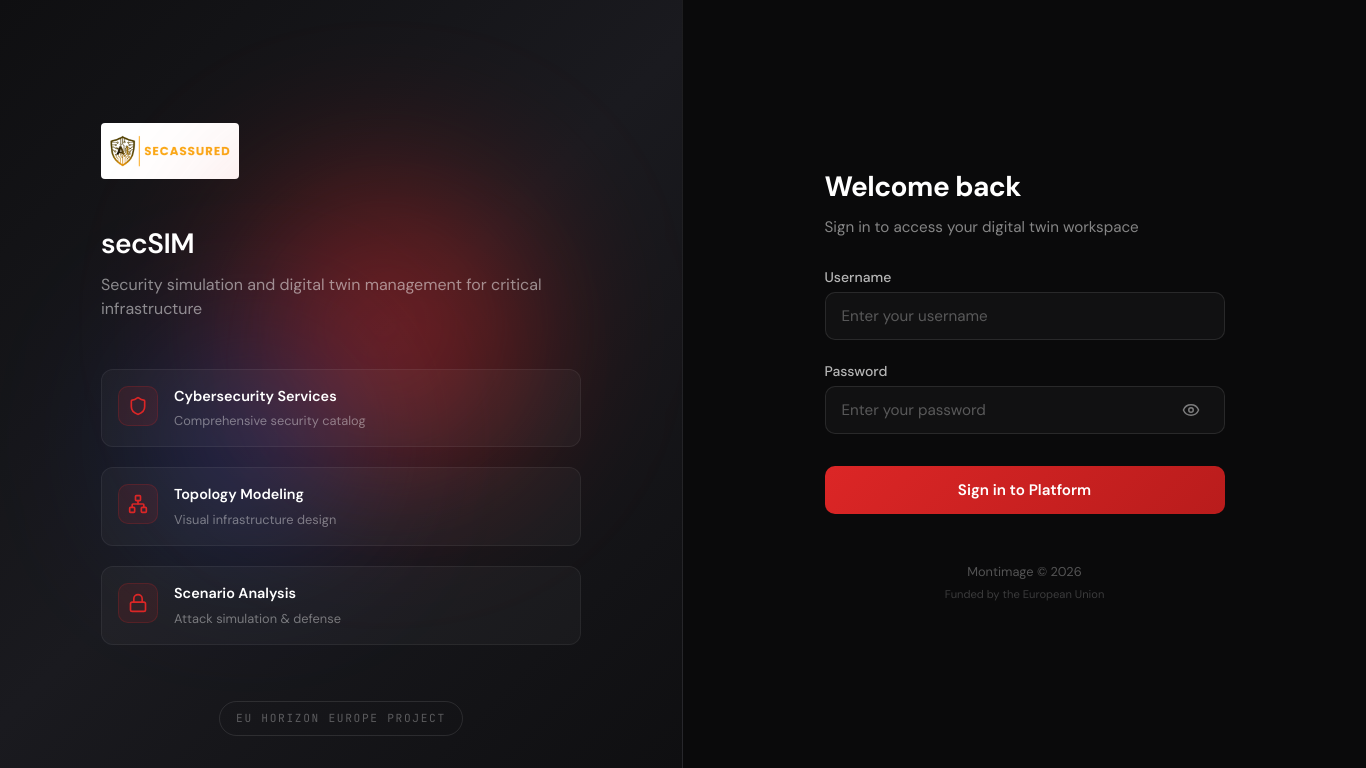
Login Component › displays validation errors when fields are empty
Click the button "Sign in to Platform": [1024, 490] box x1=824 y1=466 x2=1224 y2=514
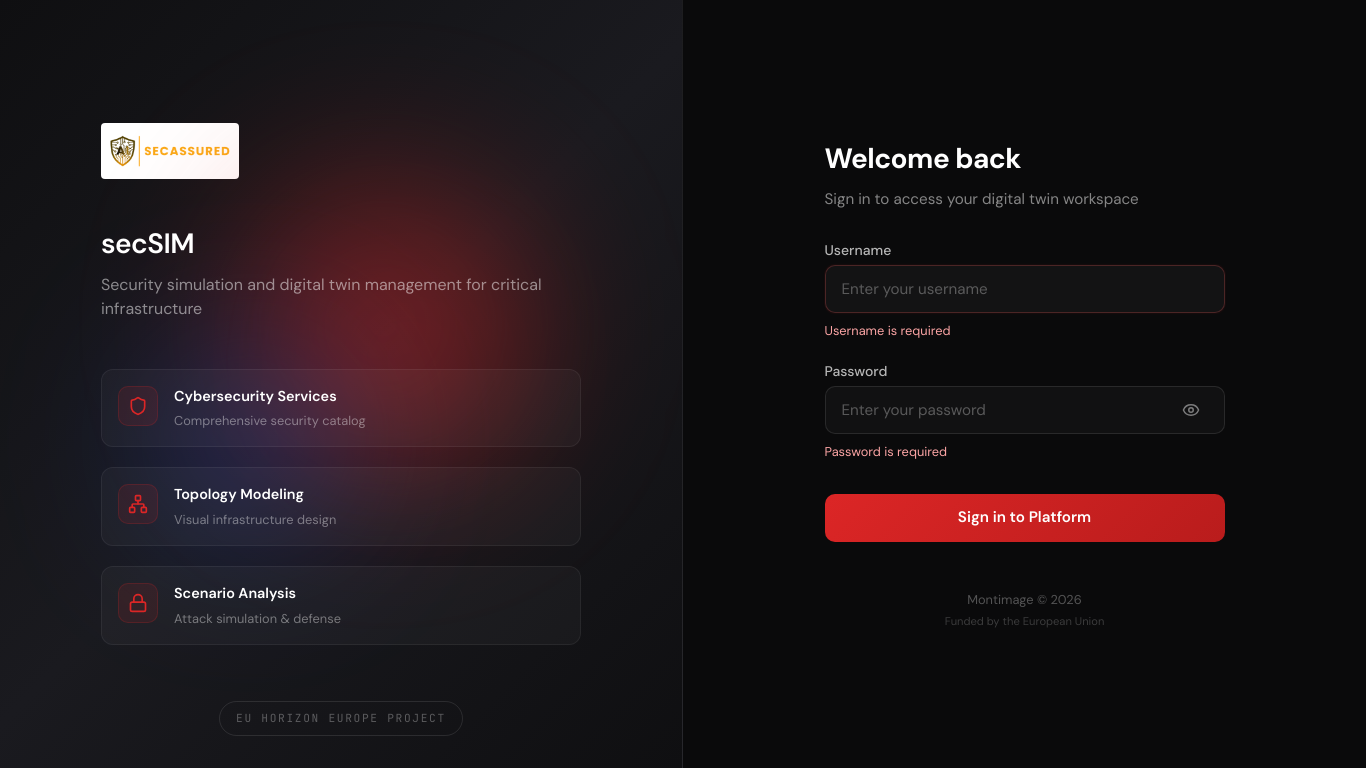
Check: the text "Username is required" is shown, box x1=824 y1=322 x2=951 y2=339
Check: the text "Password is required" is shown, box x1=824 y1=443 x2=947 y2=460
